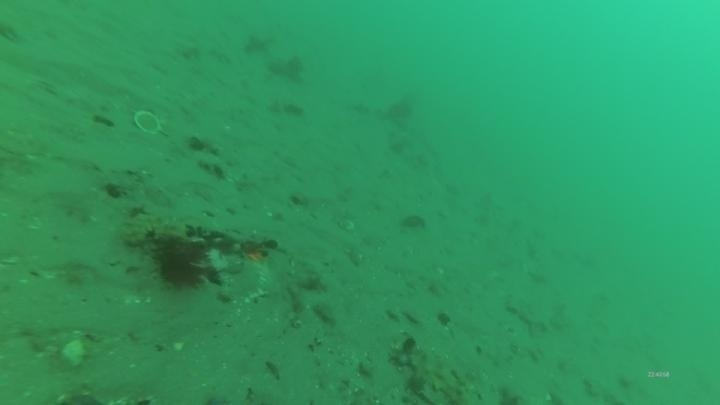echinus: (148, 233, 210, 293)
holothurian: (119, 209, 193, 249)
